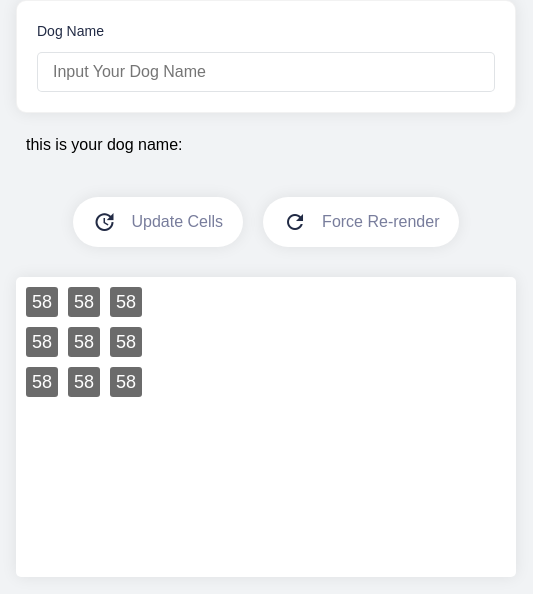
it: Testing Part 4 Context Section › Simulate dog name updated
Type "sample hello world" into the field labelled "Dog Name".
click(266, 72); type("sample hello world")  # box [37, 52, 495, 92]
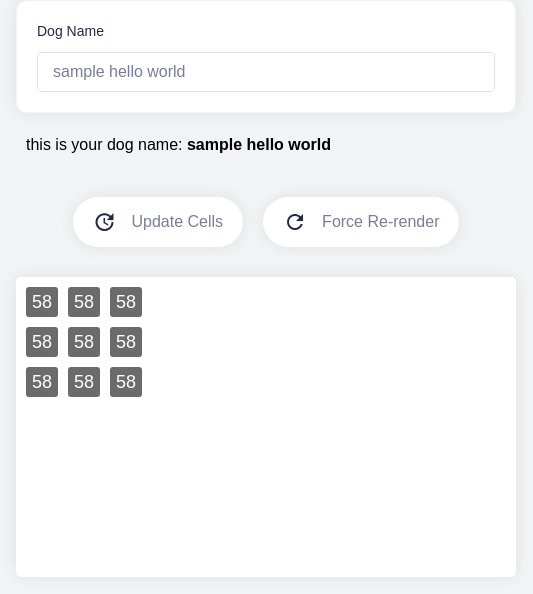
Expected: the text "this is your dog name: sample hello world" is shown, [26, 136, 331, 153]
Result: the text "sample hello world" is shown at [187, 136, 331, 153]
